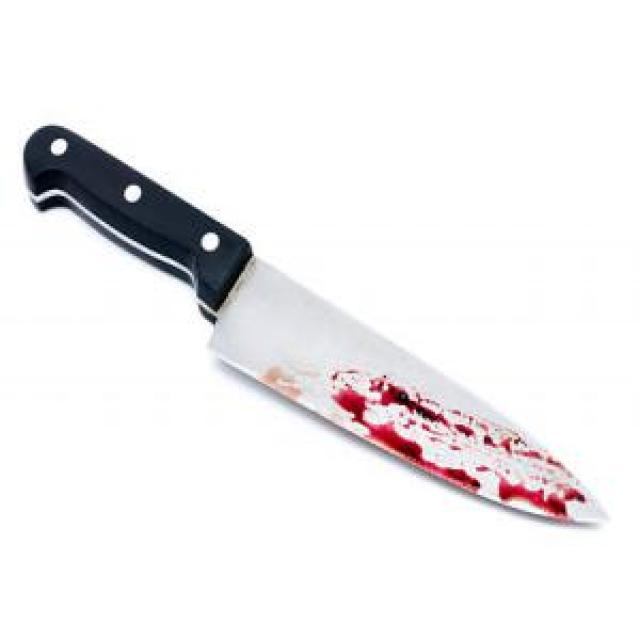knife: (24, 120, 609, 529)
